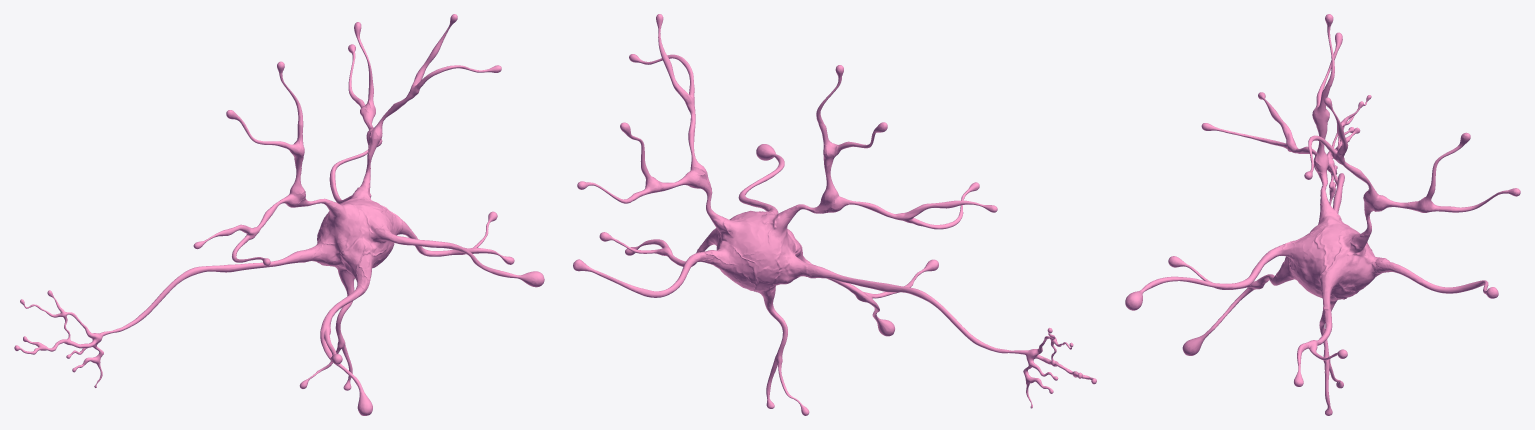
File: nerves.glb
3 views of the same model, side by side, from view 1: azimuth 30°, elevation 25°; view 2: azimuth 150°, elevation 25°; view 3: azimuth 270°, elevation 25° (orthographic). The views are drawn at different scales.
Visible parts, largest first — view 1: udambu; view 2: udambu; view 3: udambu.
Boxes of the visible parts, <box> form: udambu: <box>14,14,544,415</box>; udambu: <box>573,14,1096,415</box>; udambu: <box>1125,14,1520,415</box>.
Size of the model in its own units: 0.7 by 0.4899 by 0.4708.
